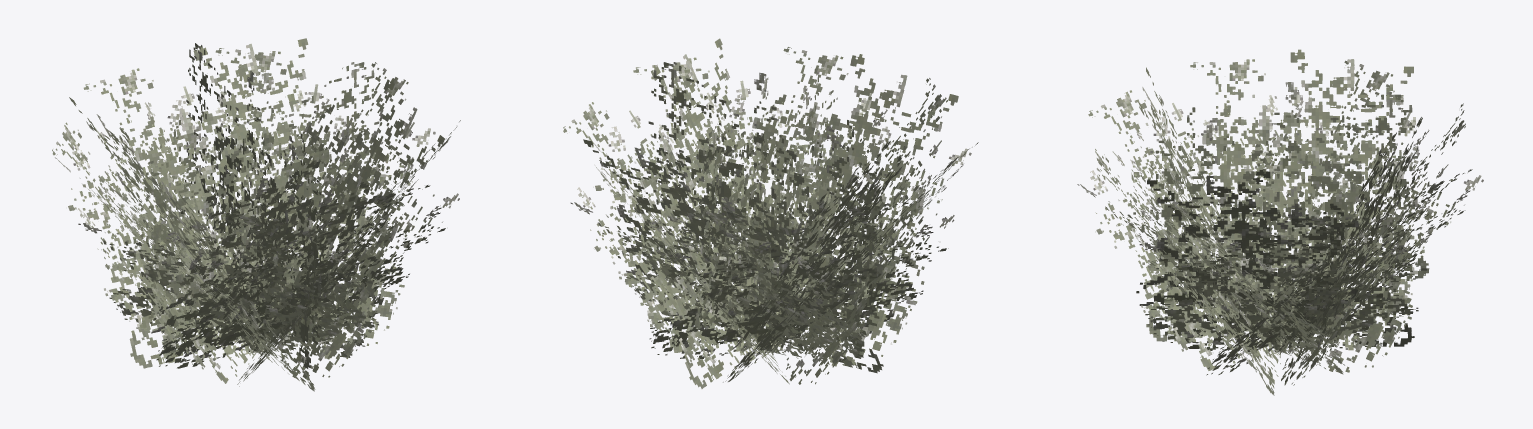
Rendered from bush_1.fbx.
The picture shows the model from 3 angles, left to right: view 1: azimuth 30°, elevation 25°; view 2: azimuth 150°, elevation 25°; view 3: azimuth 270°, elevation 25°; orthographic projection. The views are drawn at different scales.
Parts seen in each view (by area): view 1: bush; view 2: bush; view 3: bush.
Boxes of the visible parts, box(x1,y1,x2,y2) form: bush: box(52, 38, 460, 391); bush: box(563, 38, 978, 388); bush: box(1077, 49, 1483, 395).
Size of the model in its own units: 316 by 316 by 201.
